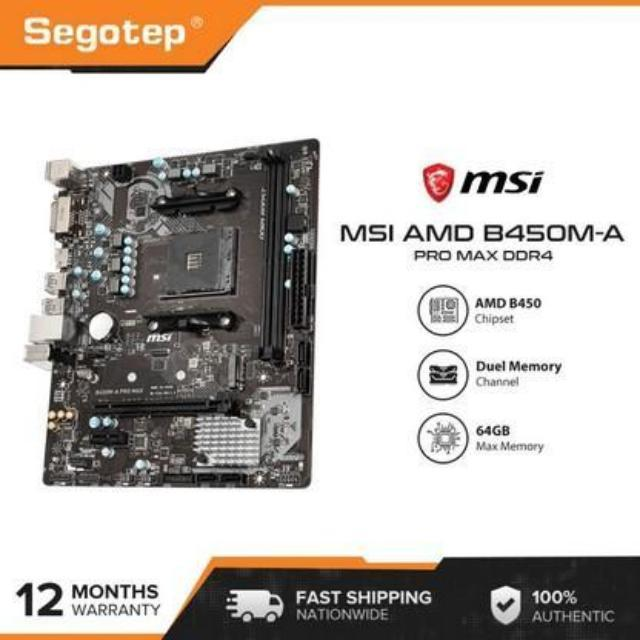Mainboard: (27, 126, 328, 511)
